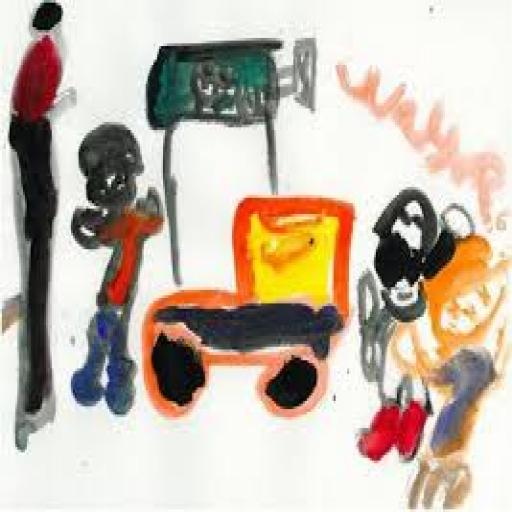person: (2, 0, 80, 458), (355, 165, 459, 471), (68, 113, 166, 431), (415, 224, 512, 512)
